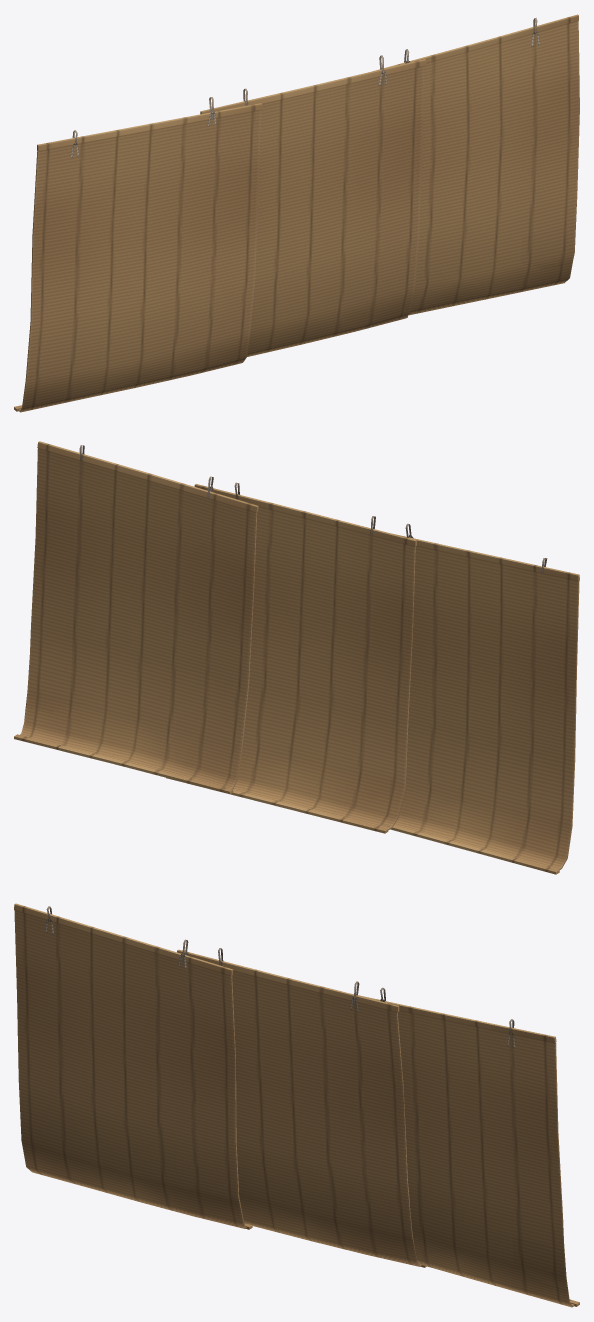
The model's file is jsf_BackSide_s04_c07.fbx.
3 renders of one model, top to bottom at view 1: azimuth 30°, elevation 25°; view 2: azimuth 150°, elevation 25°; view 3: azimuth 330°, elevation 25°, orthographic.
Parts seen in each view (by area): view 1: jsf_BackSide_s04_c07; view 2: jsf_BackSide_s04_c07; view 3: jsf_BackSide_s04_c07.
Part boxes in pixels (left/top/right/bottom): jsf_BackSide_s04_c07: left=14, top=14, right=579, bottom=412; jsf_BackSide_s04_c07: left=14, top=441, right=579, bottom=874; jsf_BackSide_s04_c07: left=14, top=903, right=579, bottom=1307.
Size of the model in its own units: 371 by 188 by 35.03.
